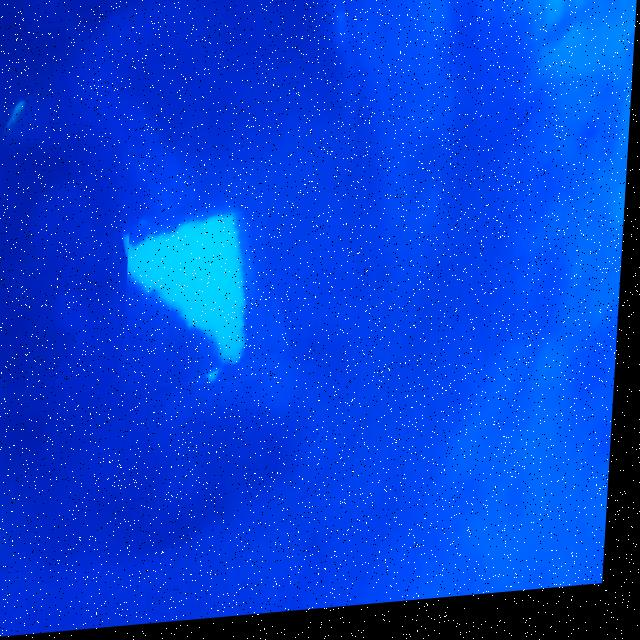thermocoal: (125, 187, 293, 394)
